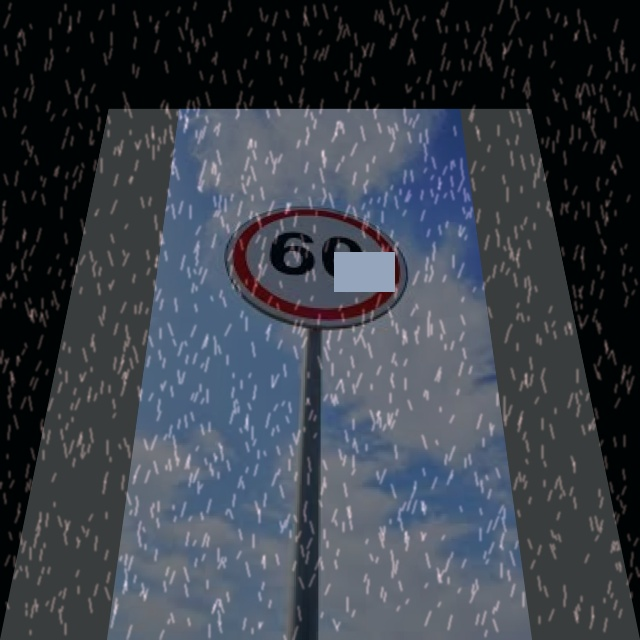Speed_Limit_60: (222, 202, 420, 328)
